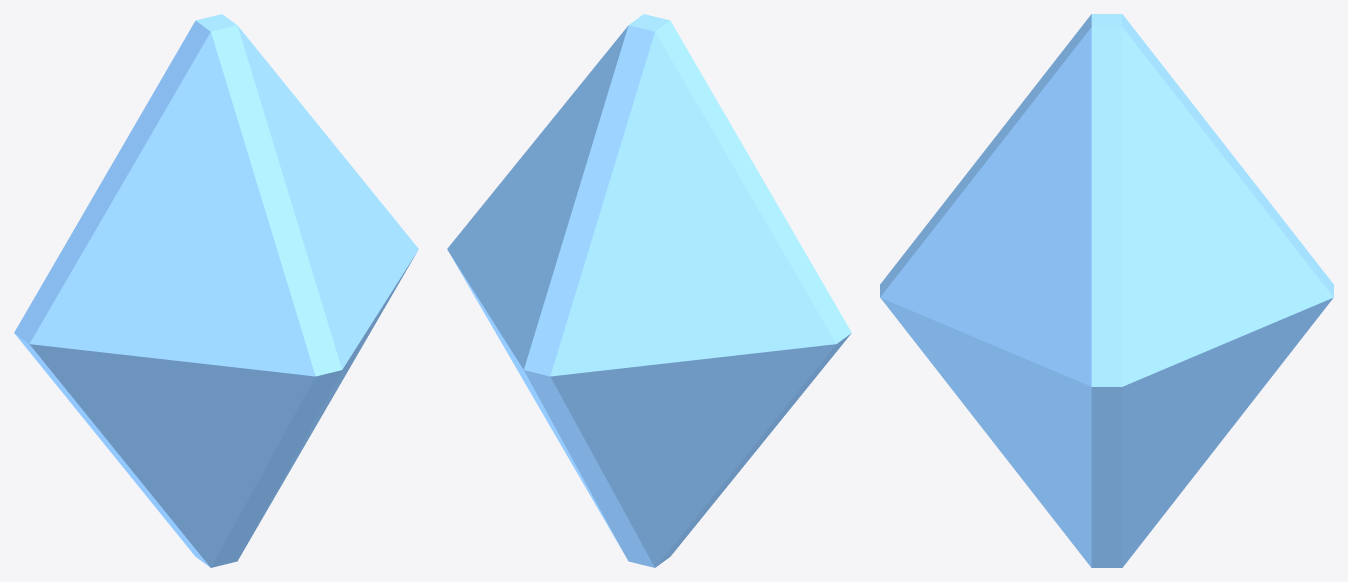
File: team_marker.glb
The picture shows the model from 3 angles, left to right: view 1: azimuth 30°, elevation 25°; view 2: azimuth 150°, elevation 25°; view 3: azimuth 270°, elevation 25°; orthographic projection.
Visible parts, largest first — view 1: team_marker; view 2: team_marker; view 3: team_marker.
Part boxes in pixels (x1,y1,x2,y2): team_marker: (14,14,418,567); team_marker: (447,14,851,567); team_marker: (880,14,1333,567).
Bounding box in the file's own units: 0.3183 × 0.4187 × 0.3183.
